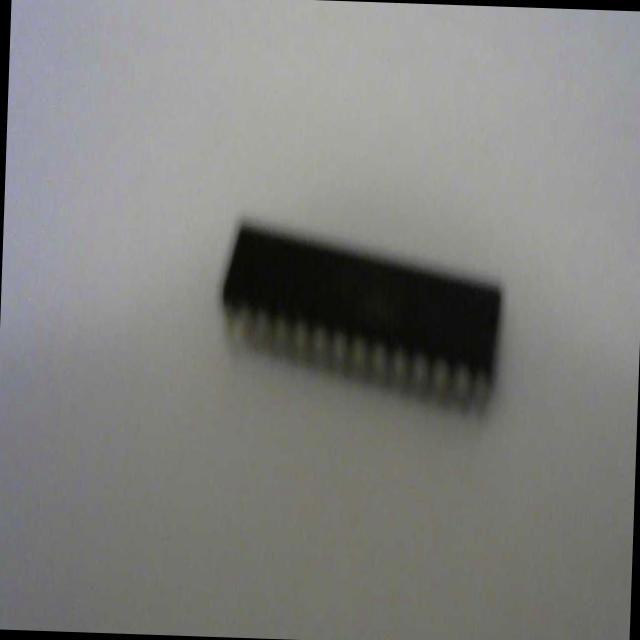atmega: (214, 212, 506, 420)
